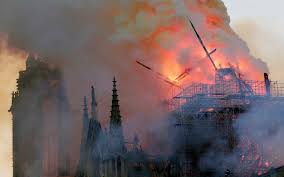smoke: (15, 90, 281, 177), (1, 1, 154, 72)
